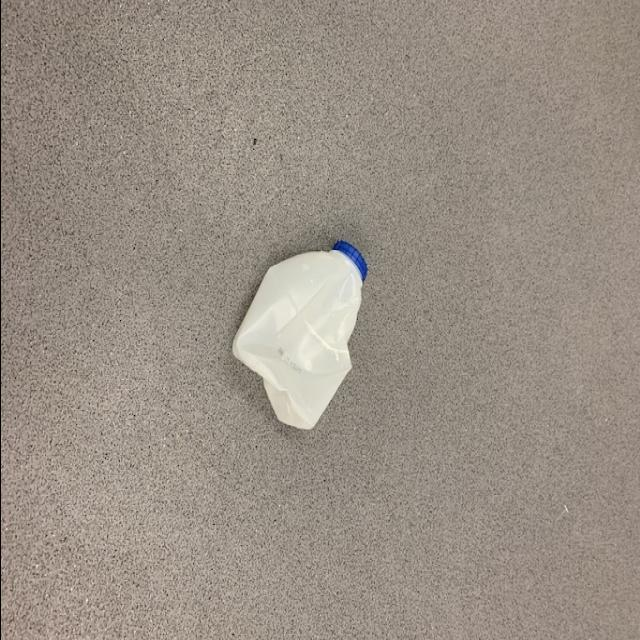HDPEM: (232, 237, 368, 435)
